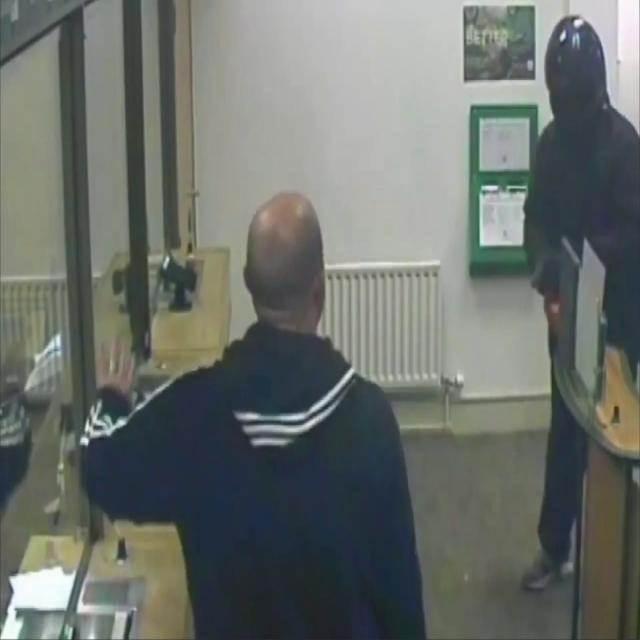weapon: (528, 257, 552, 289)
